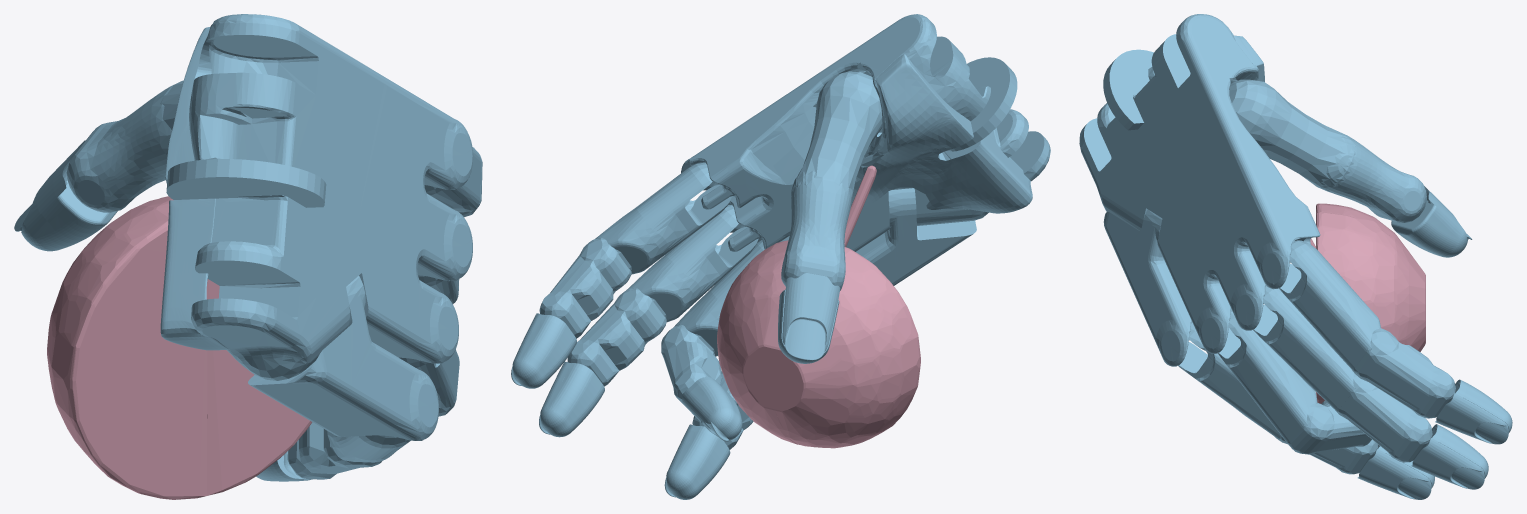
3 renders of one model, left to right at view 1: azimuth 30°, elevation 25°; view 2: azimuth 150°, elevation 25°; view 3: azimuth 270°, elevation 25°, orthographic. The views are drawn at different scales.
Parts seen in each view (by area): view 1: hand_isaac_q, world; view 2: hand_isaac_q, world; view 3: hand_isaac_q, world.
Part boxes in pixels (bbox=[...]): hand_isaac_q: bbox=[14, 14, 482, 481]; world: bbox=[47, 196, 312, 499]; hand_isaac_q: bbox=[511, 14, 1050, 499]; world: bbox=[717, 165, 920, 448]; hand_isaac_q: bbox=[1079, 14, 1512, 499]; world: bbox=[1310, 203, 1425, 403].
Size of the model in its own units: 0.1431 by 0.1704 by 0.1585.
